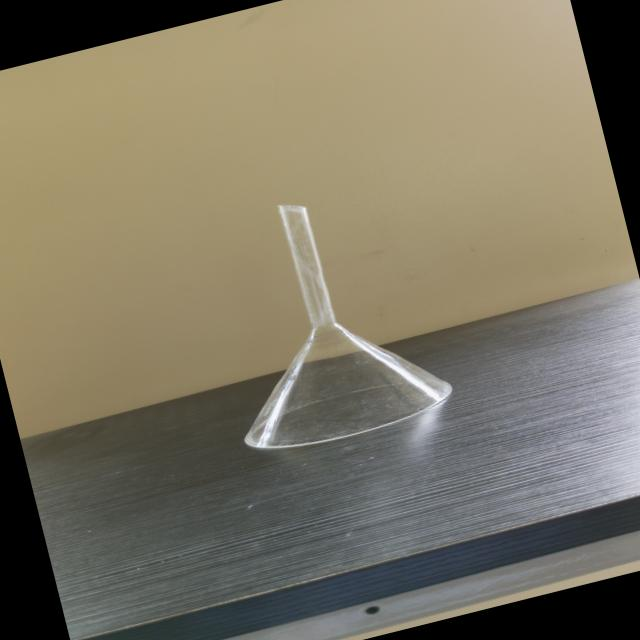funnel: (171, 167, 476, 469)
